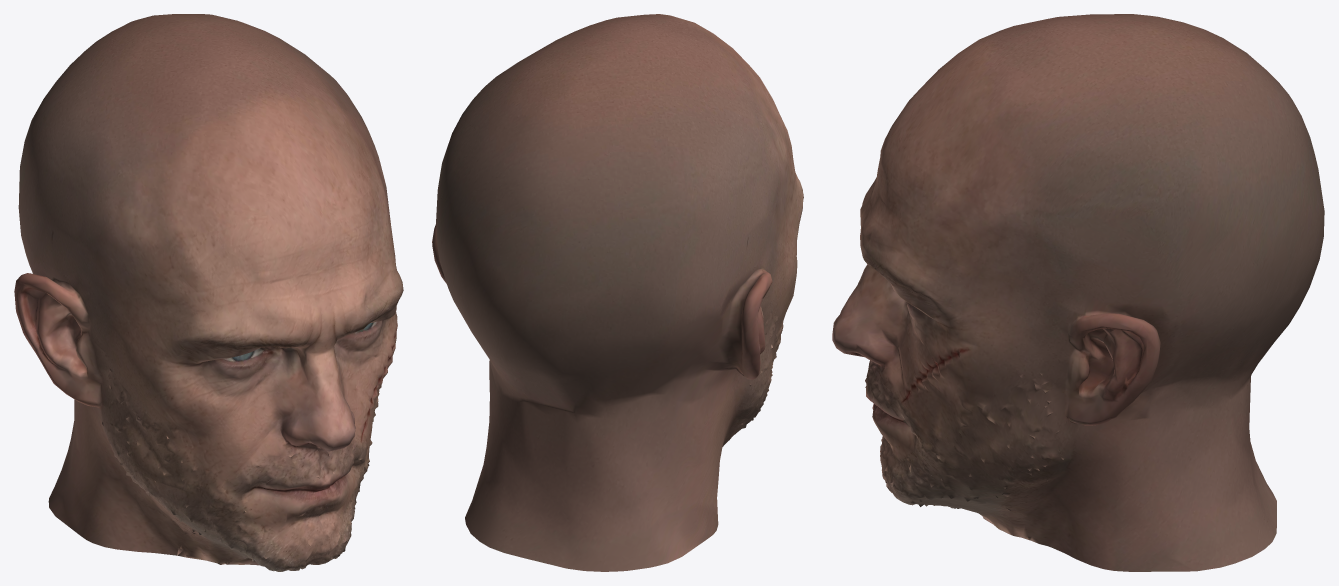
The model's file is head.glb.
The picture shows the model from 3 angles, left to right: view 1: azimuth 30°, elevation 25°; view 2: azimuth 150°, elevation 25°; view 3: azimuth 270°, elevation 25°; orthographic projection. The views are drawn at different scales.
Visible parts, largest first — view 1: mesh_node_Default; view 2: mesh_node_Default; view 3: mesh_node_Default.
Part boxes in pixels (bbox=[...]): mesh_node_Default: bbox=[14, 14, 403, 571]; mesh_node_Default: bbox=[432, 14, 803, 571]; mesh_node_Default: bbox=[832, 14, 1324, 571].
Bounding box in the file's own units: 0.9992 × 1.37 × 1.24.
1 material, 1 textured.
